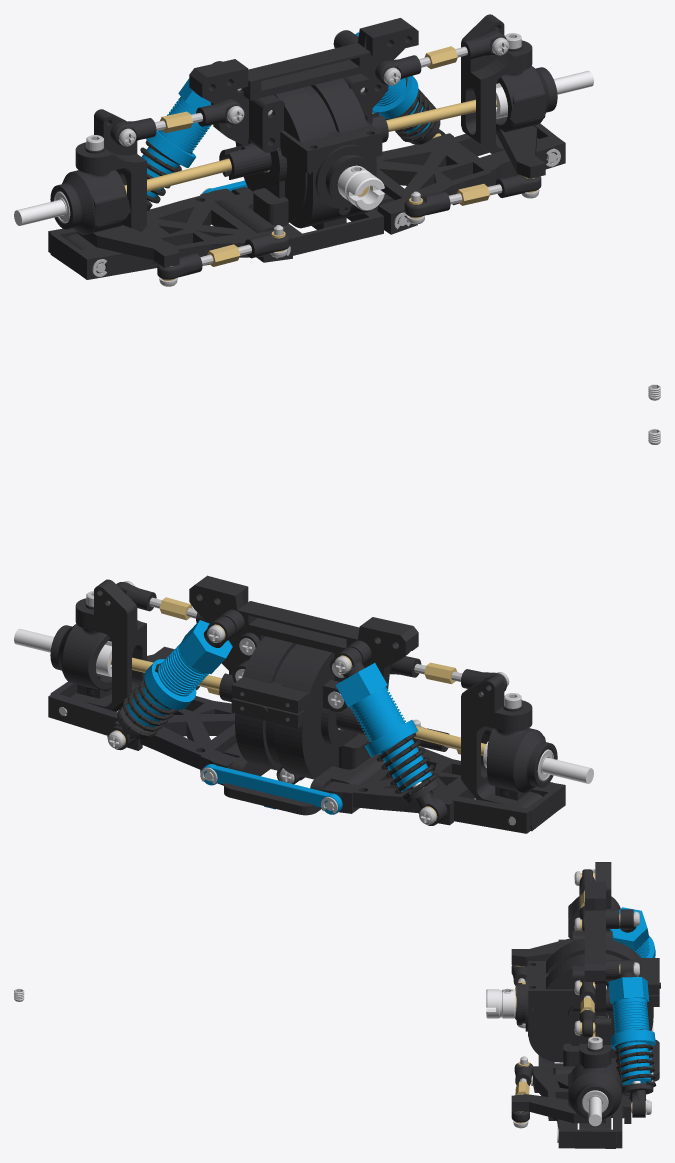
Rendered from hsp_A.glb.
3 renders of one model, top to bottom at view 1: azimuth 30°, elevation 25°; view 2: azimuth 150°, elevation 25°; view 3: azimuth 270°, elevation 25°, orthographic. The views are drawn at different scales.
Parts seen in each view (by area): view 1: n36, n29, n9, n8, n16, n17, n19, n18, n21, n0, n75, n72 (+12 smaller); view 2: n37, n29, n8, n9, n18, n19, n0, n1, n16, n17, n21, n20 (+10 smaller); view 3: n36, n17, n1, n29, n9, n37, n19, n16, n0, n70, n3, n64 (+4 smaller).
Part boxes in pixels (box(x1,y1,x2,y2)): n36: box(249, 73, 382, 229); n29: box(189, 18, 418, 146); n9: box(376, 123, 565, 234); n8: box(48, 188, 292, 279); n16: box(50, 170, 179, 267); n17: box(496, 66, 557, 178); n19: box(461, 14, 538, 153); n18: box(66, 109, 146, 250); n21: box(218, 187, 394, 255); n0: box(141, 78, 211, 198); n75: box(404, 174, 541, 217); n72: box(157, 233, 289, 279); n37: box(231, 636, 347, 784); n29: box(189, 575, 418, 688); n8: box(322, 746, 565, 833); n9: box(48, 681, 237, 785); n18: box(461, 674, 542, 807); n19: box(69, 579, 146, 711); n0: box(335, 663, 432, 792); n1: box(127, 620, 232, 726); n16: box(487, 728, 557, 800); n17: box(50, 624, 174, 698); n21: box(221, 741, 384, 815); n20: box(202, 764, 342, 814); n36: box(516, 930, 595, 1066); n17: box(511, 1063, 621, 1123); n1: box(608, 977, 655, 1084); n29: box(584, 881, 619, 1015); n9: box(532, 1066, 631, 1148); n37: box(606, 938, 660, 1058); n19: box(579, 1018, 611, 1129); n16: box(511, 896, 620, 966); n0: box(610, 907, 655, 957); n70: box(614, 1029, 656, 1087); n3: box(619, 960, 653, 1117); n64: box(486, 989, 515, 1018).
Bounding box in the file's own units: 0.204 × 0.0612 × 0.2433.
